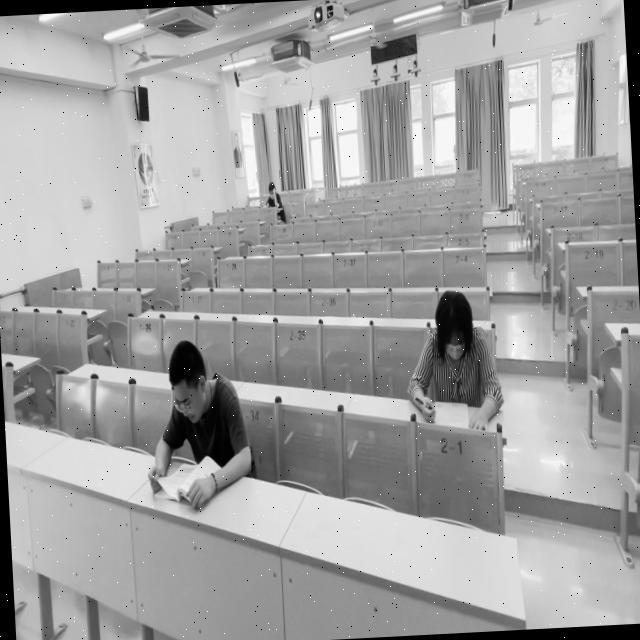study: (144, 345, 254, 508), (402, 293, 503, 417), (265, 181, 282, 210)
